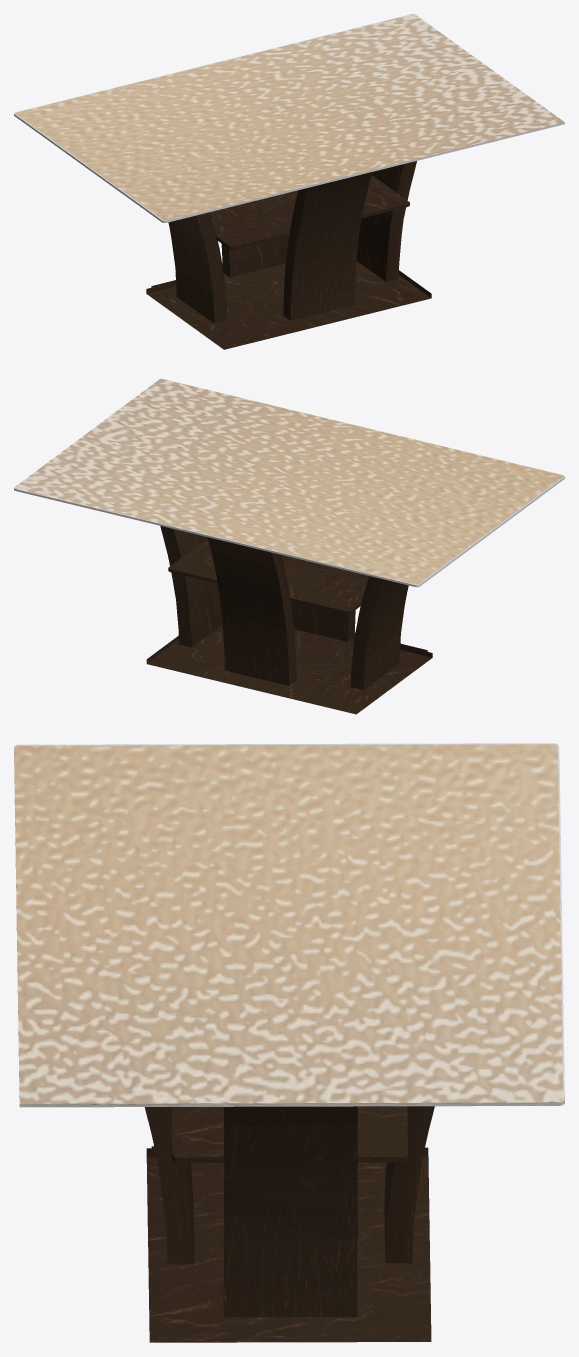
The picture shows the model from 3 angles, top to bottom: view 1: azimuth 30°, elevation 25°; view 2: azimuth 150°, elevation 25°; view 3: azimuth 270°, elevation 25°; orthographic projection. The views are drawn at different scales.
Visible parts, largest first — view 1: Cube.005; view 2: Cube.005; view 3: Cube.005.
Boxes of the visible parts, box(x1,y1,x2,y2) form: Cube.005: box(14, 14, 564, 349); Cube.005: box(14, 378, 564, 714); Cube.005: box(14, 743, 564, 1342).
Bounding box in the file's own units: 3.57 × 1.5 × 2.3.
2 materials, 2 textured.
